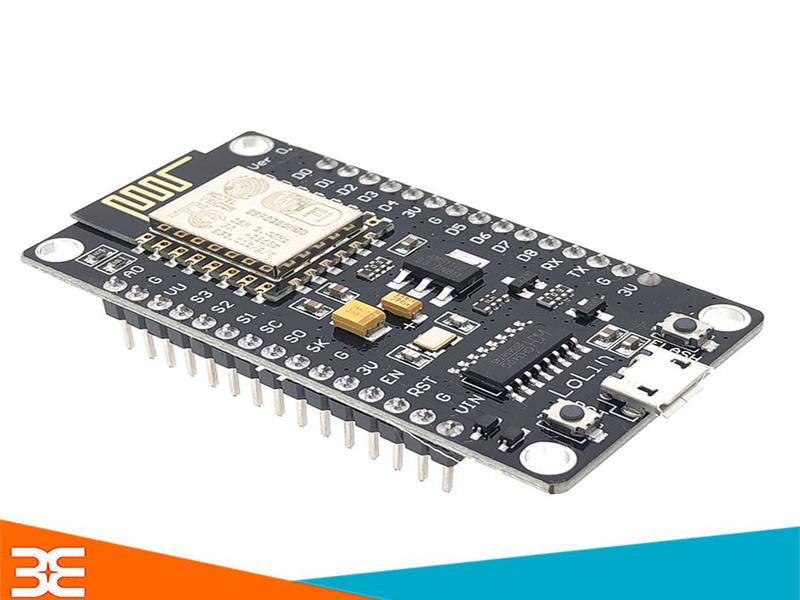ESP8266: (23, 127, 771, 503)
